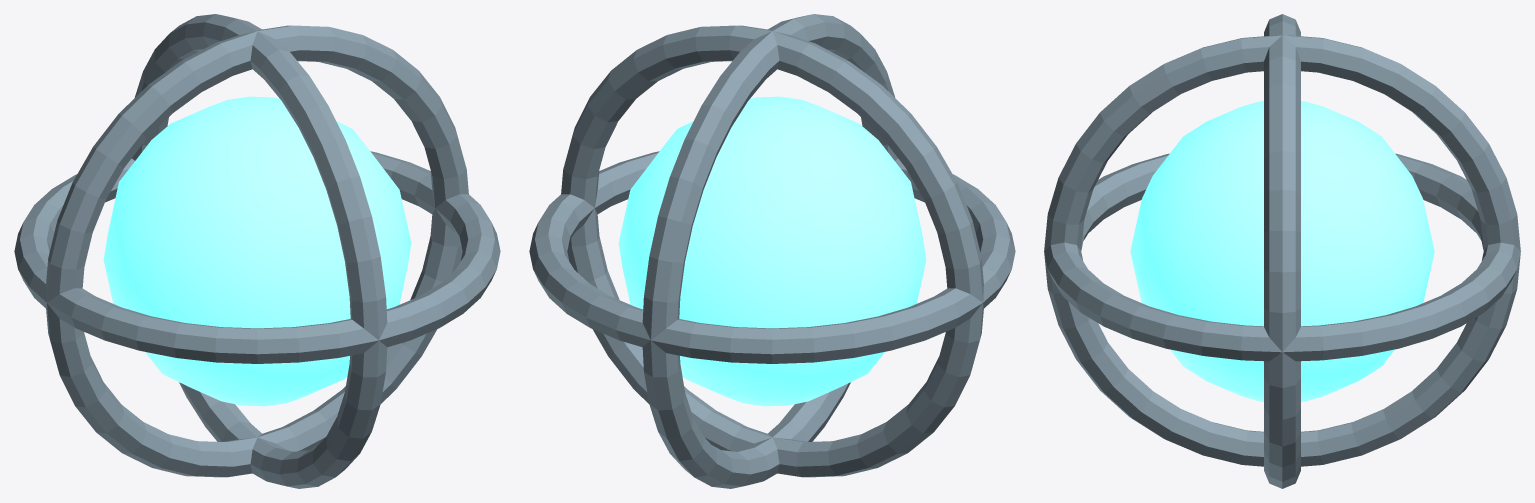
Rendered from core.glb.
3 renders of one model, left to right at view 1: azimuth 30°, elevation 25°; view 2: azimuth 150°, elevation 25°; view 3: azimuth 270°, elevation 25°, orthographic.
Visible parts, largest first — view 1: core_Mesh; view 2: core_Mesh; view 3: core_Mesh.
Part boxes in pixels (<box>): core_Mesh: <box>14,14,500,488</box>; core_Mesh: <box>529,14,1015,488</box>; core_Mesh: <box>1044,14,1520,488</box>.
Size of the model in its own units: 1.41 by 1.41 by 1.41.
